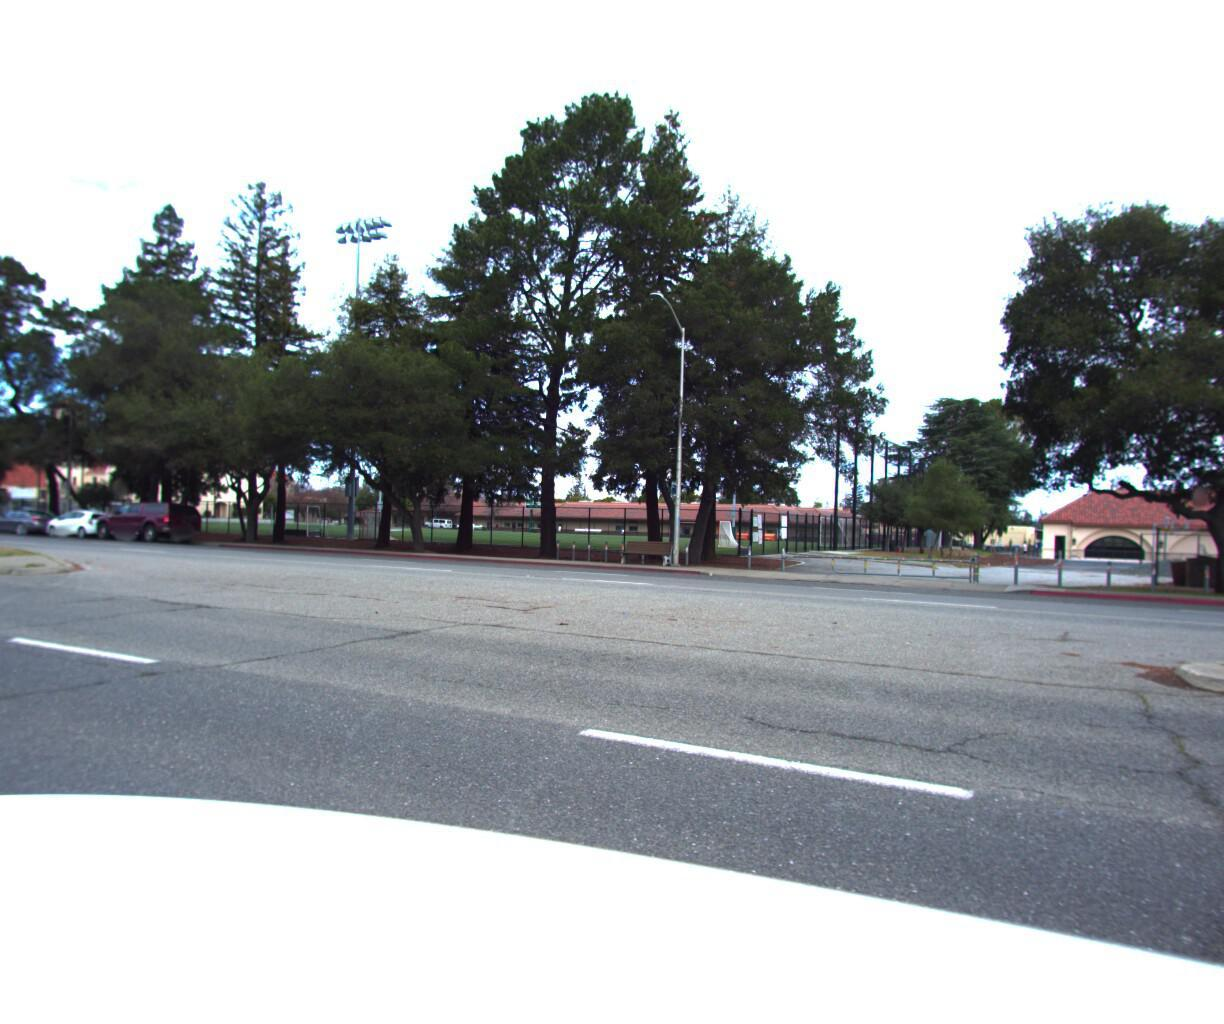car: (85, 495, 216, 541), (39, 502, 121, 535), (0, 501, 66, 534)
